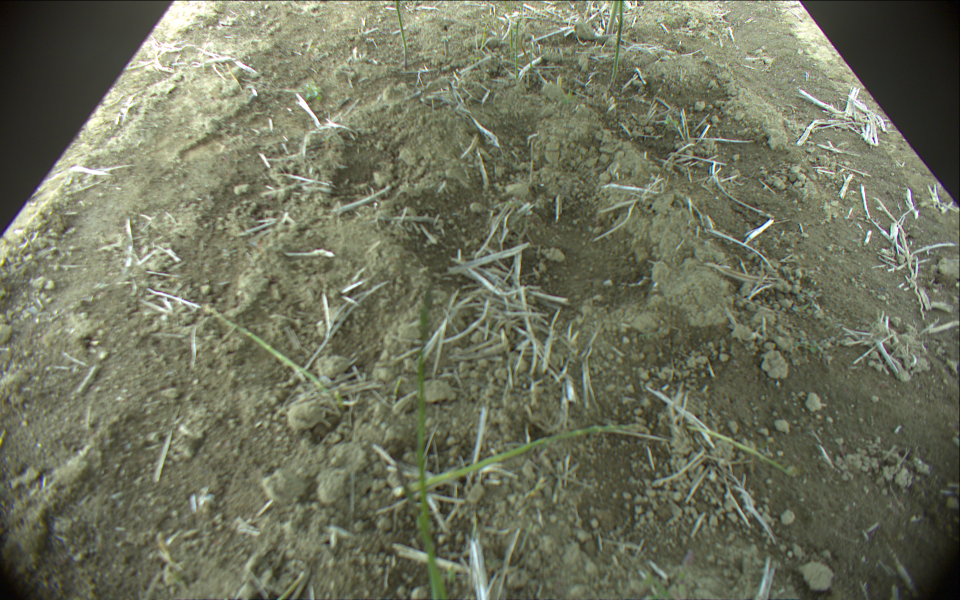aspa: (383, 426, 648, 496), (207, 305, 339, 412), (417, 285, 456, 600), (607, 1, 627, 86), (392, 1, 411, 66), (607, 1, 623, 39)
